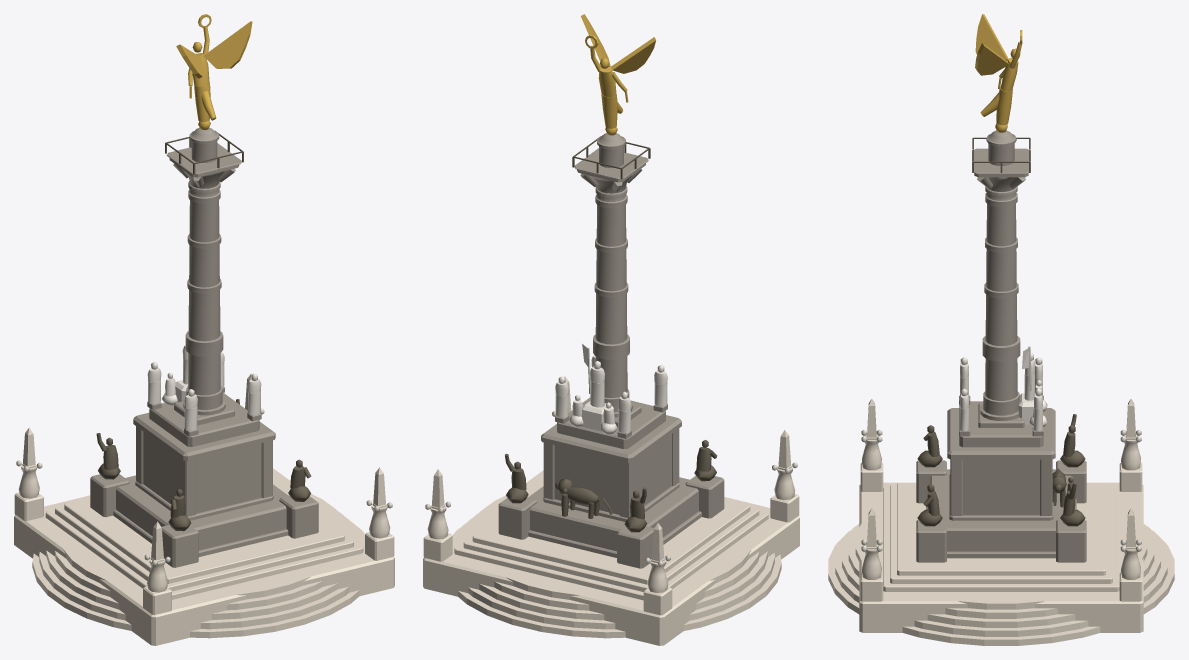
File: mexico-city-angel-de-la-independencia.glb
The picture shows the model from 3 angles, left to right: view 1: azimuth 30°, elevation 25°; view 2: azimuth 150°, elevation 25°; view 3: azimuth 270°, elevation 25°; orthographic projection. The views are drawn at different scales.
Parts seen in each view (by area): view 1: Ángel de la Independencia; view 2: Ángel de la Independencia; view 3: Ángel de la Independencia.
Part boxes in pixels (x1,y1,x2,y2): Ángel de la Independencia: [14, 14, 394, 645]; Ángel de la Independencia: [423, 14, 799, 645]; Ángel de la Independencia: [828, 14, 1174, 645].
Size of the model in its own units: 30.45 by 53.19 by 30.45.
